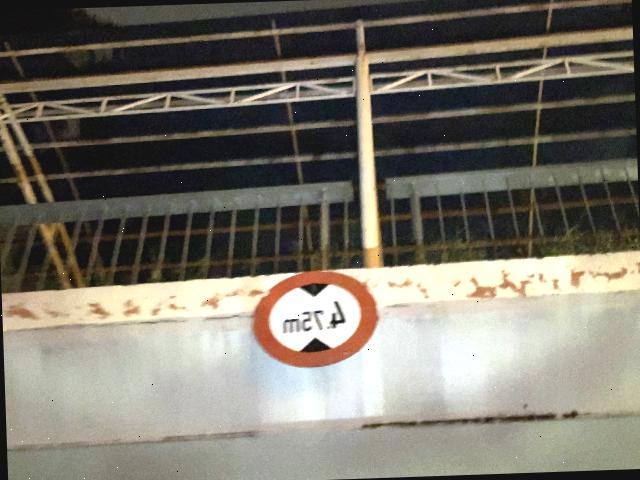han-che-chieu-cao: (252, 270, 380, 370)
